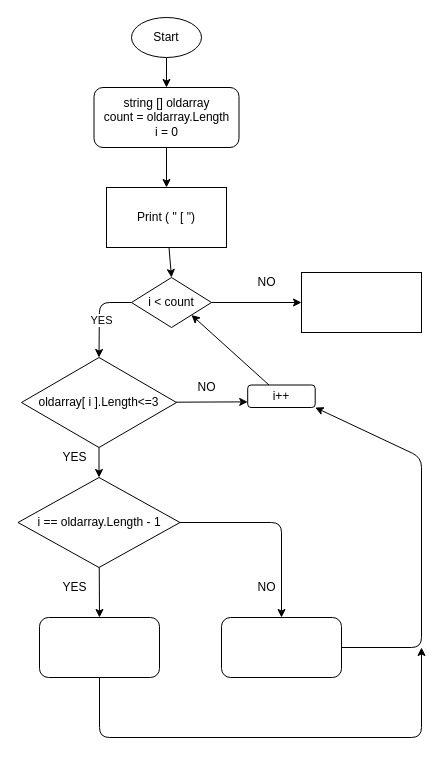
The diagram is 447 pixels wide and 763 high, and some of its shapes have lost their labels. Here are the shapes that lost their labels. From the top down, the centre of each, then its label:
[361,302]: Print ( " ] ")
[99,647]: Print ( oldarray [ i ] )
[281,647]: Print ( oldarray [ i ] , )
